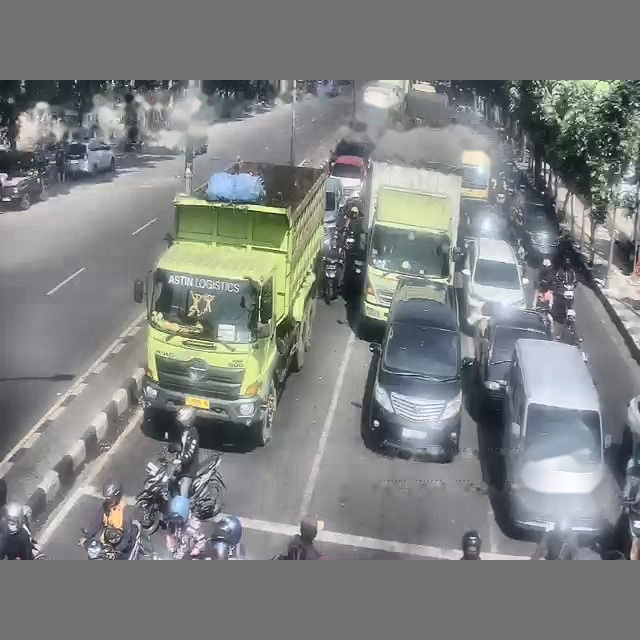Mobil: (366, 296, 472, 462), (473, 306, 552, 413), (460, 238, 528, 327), (0, 150, 47, 209), (391, 276, 458, 317), (65, 139, 115, 177), (523, 212, 559, 261), (464, 204, 508, 240), (331, 155, 366, 197), (619, 394, 639, 467), (324, 177, 344, 225)
Motor: (135, 448, 178, 534), (79, 521, 143, 559), (322, 227, 345, 304)
Truk: (133, 162, 326, 446), (361, 159, 461, 326)
